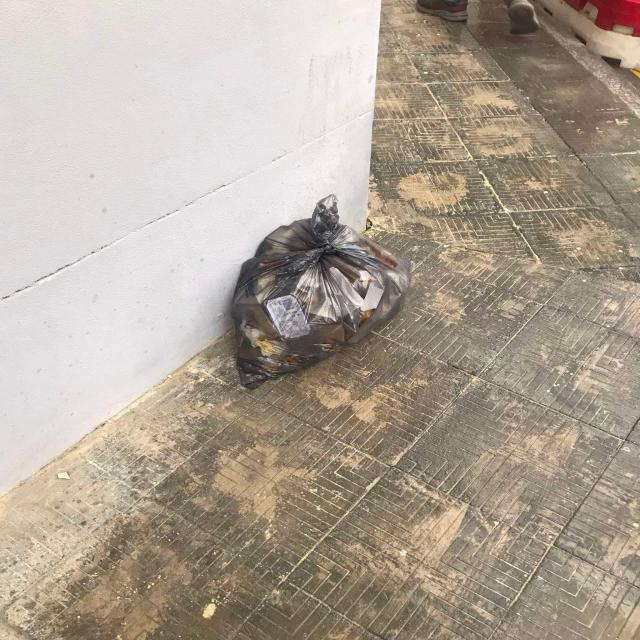Mixed Waste -Black Bag-: (229, 198, 413, 390)
